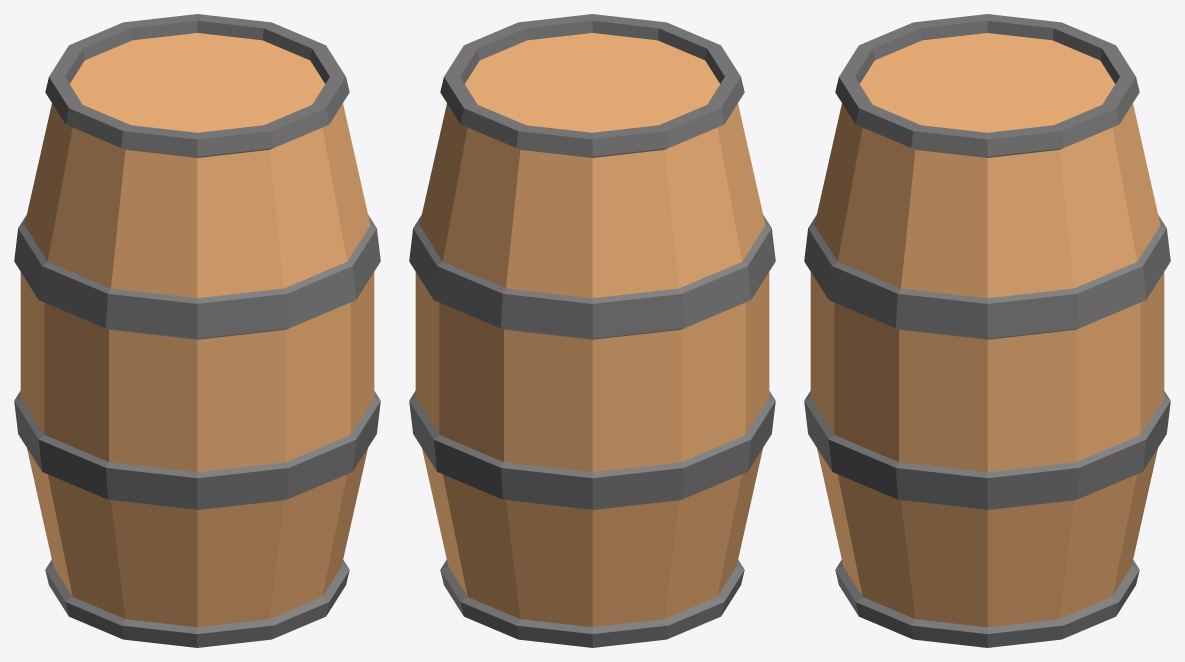
File: drum_3.FBX
3 renders of one model, left to right at view 1: azimuth 30°, elevation 25°; view 2: azimuth 150°, elevation 25°; view 3: azimuth 270°, elevation 25°, orthographic.
Parts seen in each view (by area): view 1: drum_3; view 2: drum_3; view 3: drum_3.
Boxes of the visible parts, x1,y1,x2,y2 form: drum_3: (14, 14, 380, 647); drum_3: (409, 14, 775, 647); drum_3: (804, 14, 1170, 647).
Size of the model in its own units: 0.4867 by 0.7448 by 0.4867.
1 material, 1 textured.
